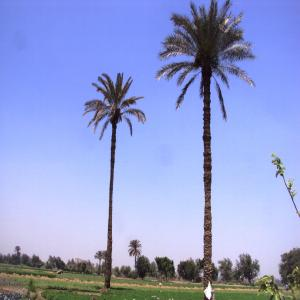palm tree: (154, 0, 258, 299), (82, 71, 146, 289), (128, 238, 142, 278)
